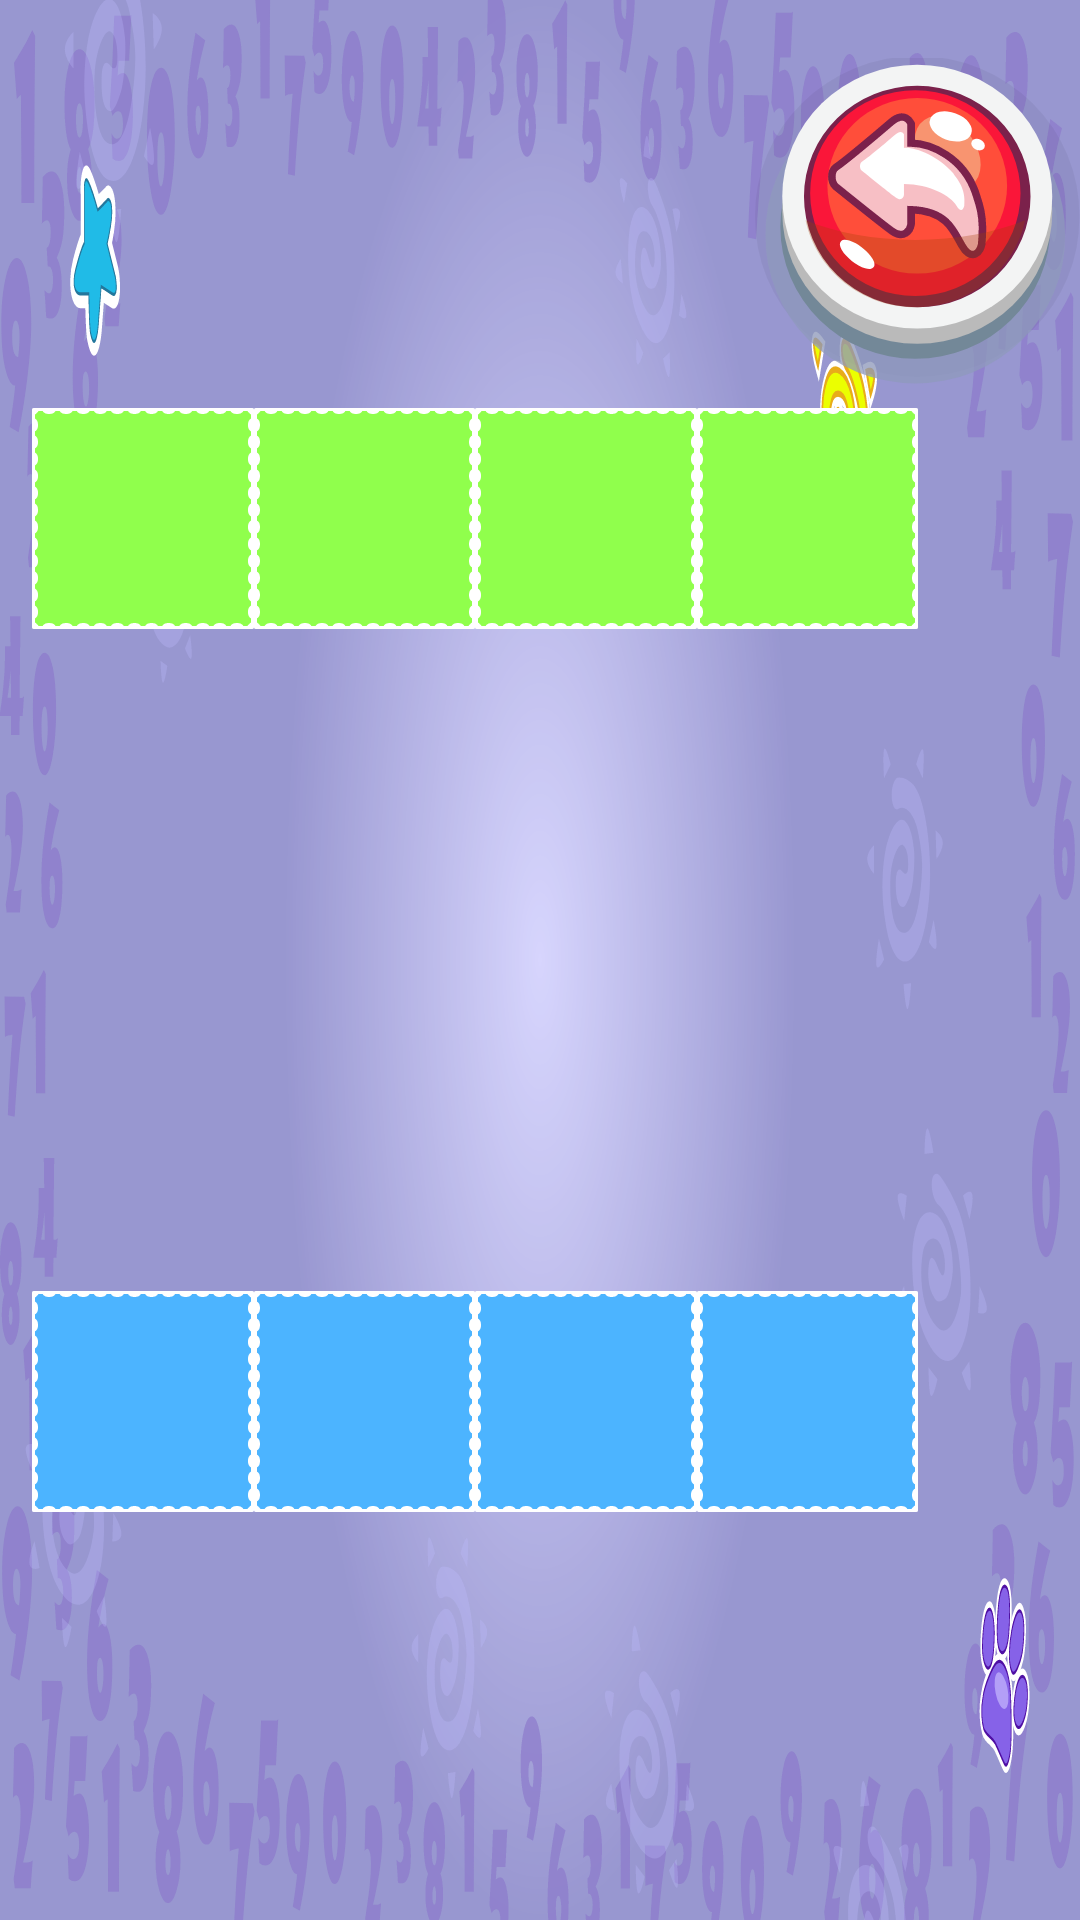

Icons on this 1080*1920 Android screen, each with the point to tap as point (x, y):
exit: point (910, 221)
